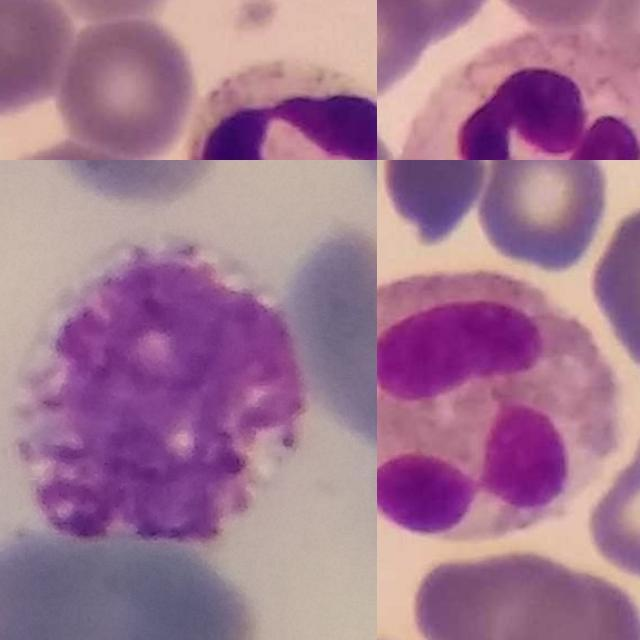Basophil: (16, 238, 311, 549)
Eosinophil: (377, 274, 621, 541)
Neutrophil: (408, 33, 640, 160), (182, 56, 377, 160)
